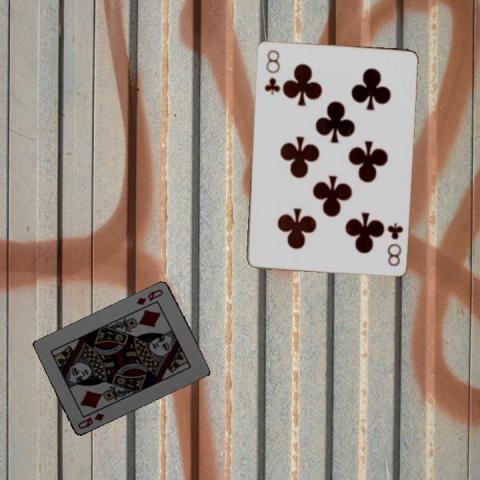8c: (384, 219, 405, 268), (261, 47, 281, 96)
Qd: (75, 410, 106, 431), (133, 286, 165, 306)
